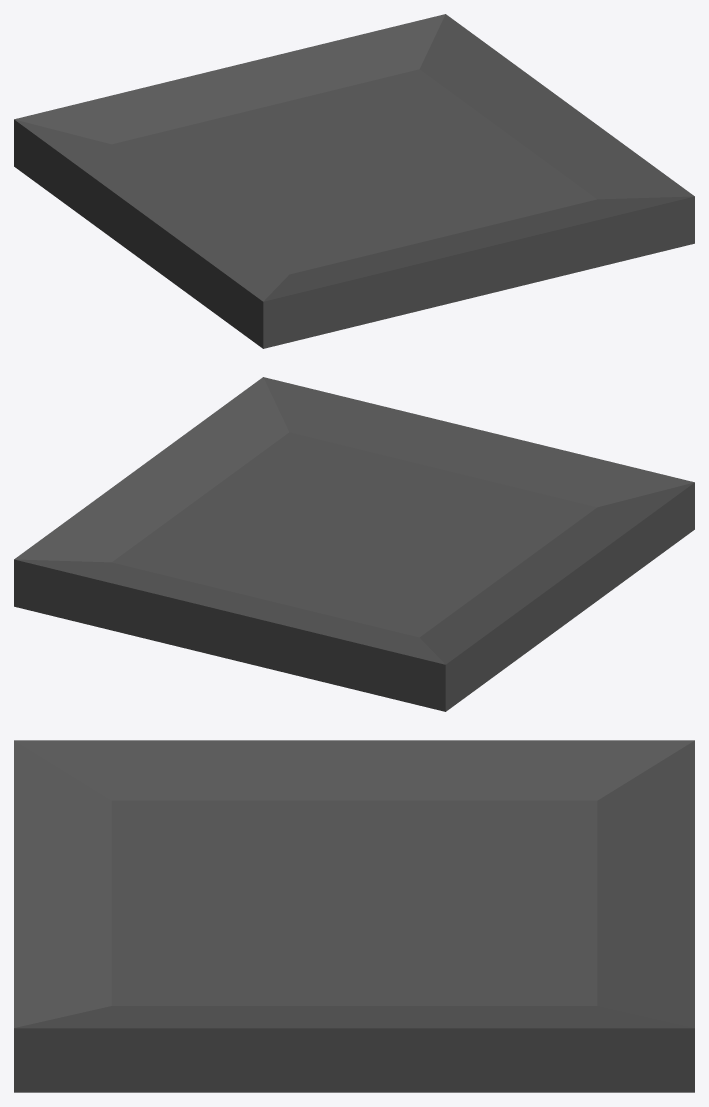
Rendered from Itr_Chair2_Seat_04.FBX.
3 renders of one model, top to bottom at view 1: azimuth 30°, elevation 25°; view 2: azimuth 150°, elevation 25°; view 3: azimuth 270°, elevation 25°, orthographic. The views are drawn at different scales.
Parts seen in each view (by area): view 1: Itr_Chair2_Seat_04; view 2: Itr_Chair2_Seat_04; view 3: Itr_Chair2_Seat_04.
Part boxes in pixels (bbox=[...]): Itr_Chair2_Seat_04: bbox=[14, 14, 694, 348]; Itr_Chair2_Seat_04: bbox=[14, 377, 694, 711]; Itr_Chair2_Seat_04: bbox=[14, 740, 694, 1092].
Bounding box in the file's own units: 14.4 × 1.95 × 14.4.
